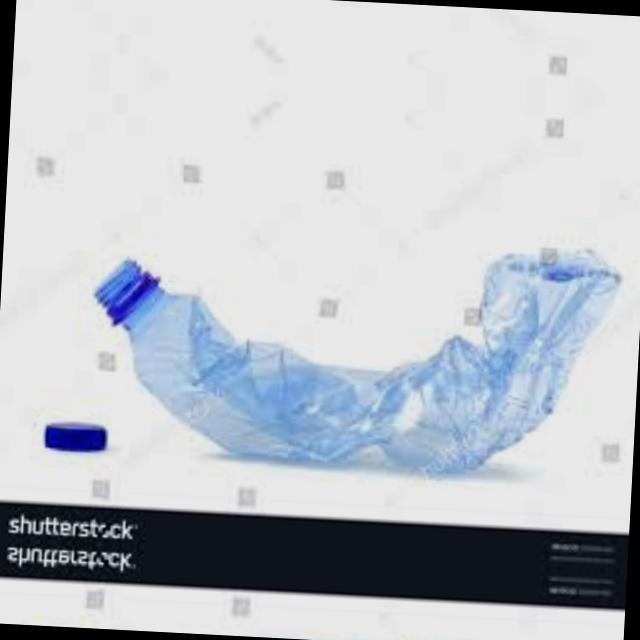Plastic: (70, 211, 632, 490), (61, 622, 611, 640)
